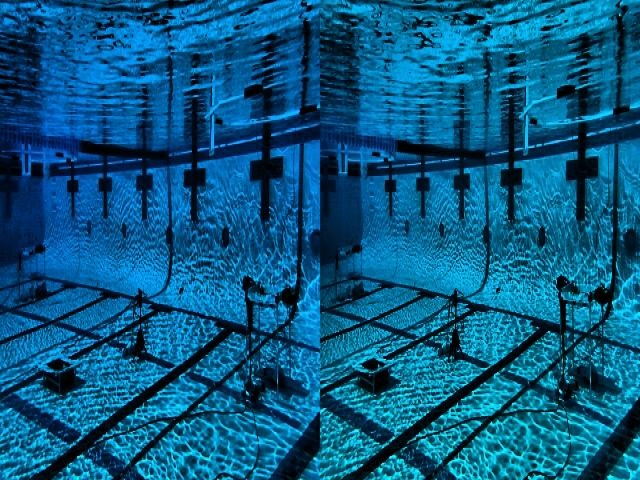octagon_table: (555, 266, 609, 398), (242, 266, 294, 388), (336, 233, 363, 302), (17, 240, 47, 299)
octagon_top: (522, 68, 640, 157), (203, 72, 319, 158), (319, 146, 395, 180), (0, 144, 78, 177)
